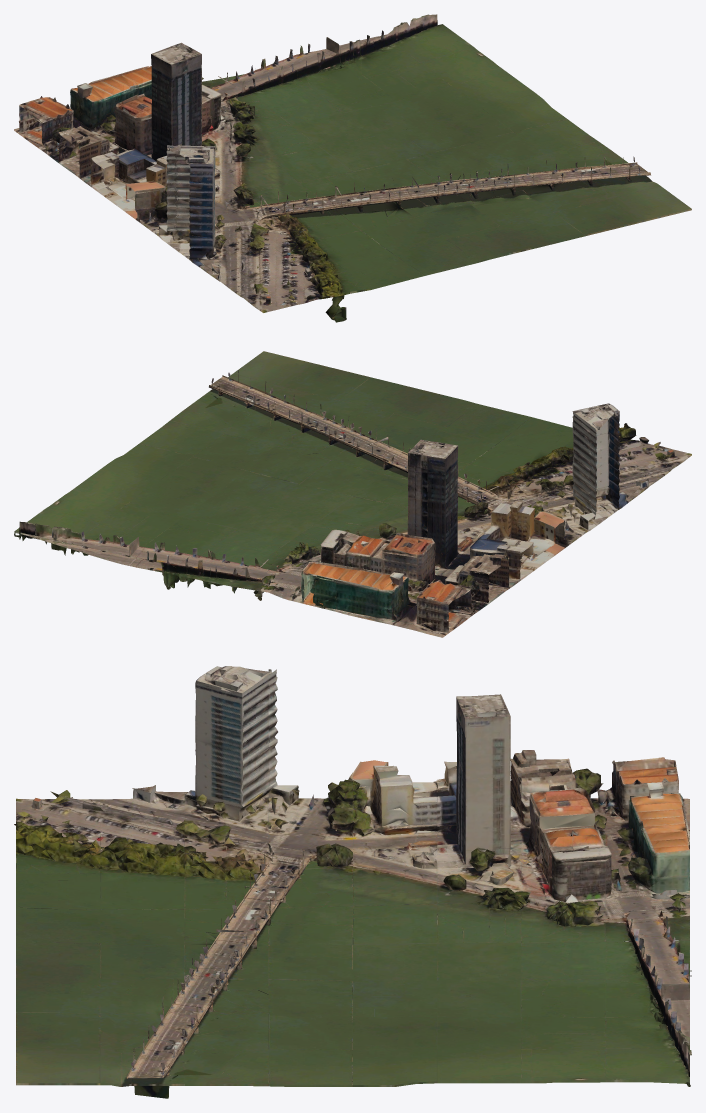
File: cais_santa_rita_oeste.glb
3 views of the same model, one above another, from view 1: azimuth 30°, elevation 25°; view 2: azimuth 150°, elevation 25°; view 3: azimuth 270°, elevation 25° (orthographic). The views are drawn at different scales.
Parts seen in each view (by area): view 1: cais_santa_rita_oeste; view 2: cais_santa_rita_oeste; view 3: cais_santa_rita_oeste.
Boxes of the visible parts, x1,y1,x2,y2 form: cais_santa_rita_oeste: [14, 14, 691, 322]; cais_santa_rita_oeste: [14, 351, 691, 637]; cais_santa_rita_oeste: [14, 666, 691, 1098].
Bounding box in the file's own units: 306 × 96.55 × 309.
1 material, 1 textured.
